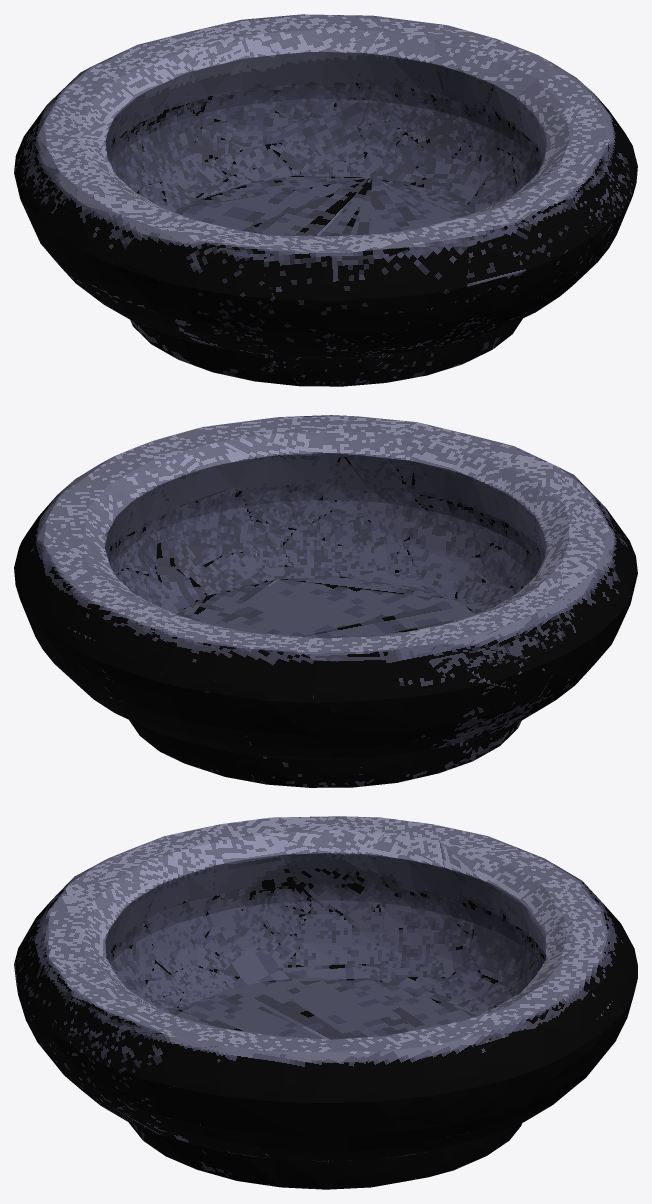
3 renders of one model, top to bottom at view 1: azimuth 30°, elevation 25°; view 2: azimuth 150°, elevation 25°; view 3: azimuth 270°, elevation 25°, orthographic.
Parts seen in each view (by area): view 1: OBJ08e; view 2: OBJ08e; view 3: OBJ08e.
Part boxes in pixels (bbox=[...]): OBJ08e: bbox=[14, 14, 637, 386]; OBJ08e: bbox=[14, 415, 637, 787]; OBJ08e: bbox=[14, 816, 637, 1189].
Size of the model in its own units: 0.28 by 0.0839 by 0.2799.
1 material, 1 textured.
